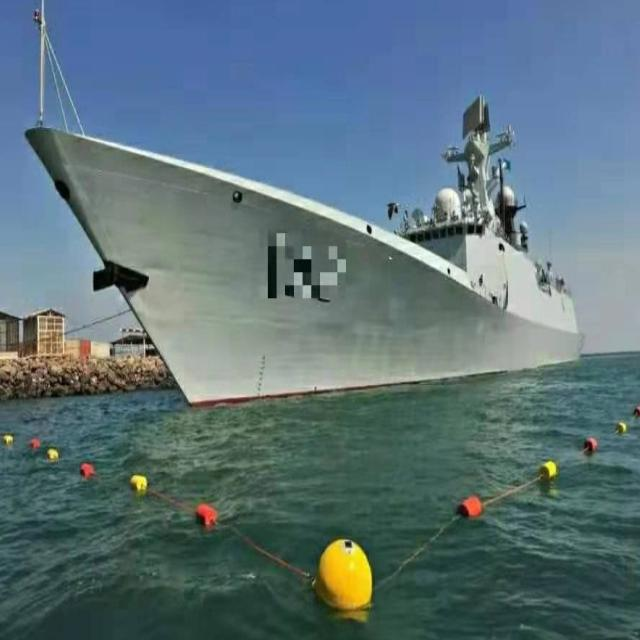navalvessels: (24, 79, 589, 413)
